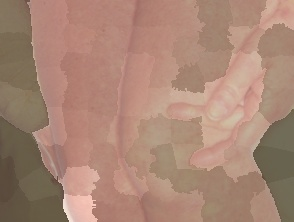SJS-TEN: (25, 0, 294, 222)
